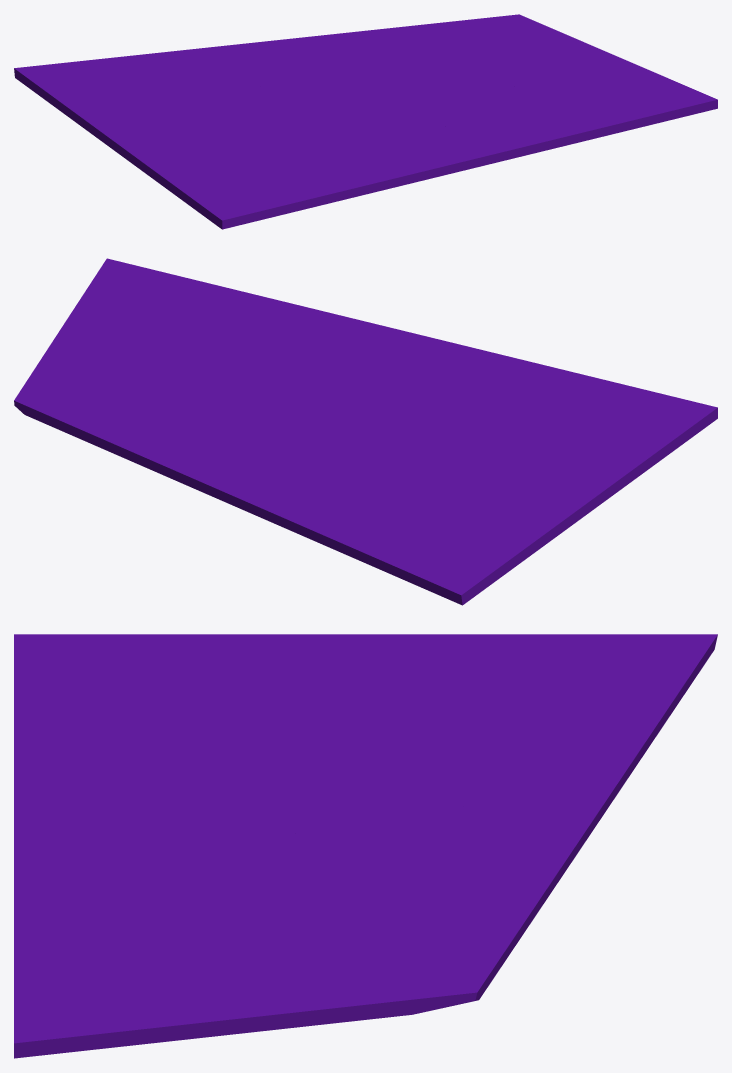
Rendered from Exhibition_18.002_0_chunks.fbx.
3 views of the same model, one above another, from view 1: azimuth 30°, elevation 25°; view 2: azimuth 150°, elevation 25°; view 3: azimuth 270°, elevation 25° (orthographic). The views are drawn at different scales.
Visible parts, largest first — view 1: Exhibition_18.002_0_1, Exhibition_18.002_0_8, Exhibition_18.002_0_5, Exhibition_18.002_0_3, Exhibition_18.002_0_9, Exhibition_18.002_0_4, Exhibition_18.002_0_7, Exhibition_18.002_0_2, Exhibition_18.002_0_10, Exhibition_18.002_0_6, Exhibition_18.002_0_11; view 2: Exhibition_18.002_0_1, Exhibition_18.002_0_8, Exhibition_18.002_0_5, Exhibition_18.002_0_4, Exhibition_18.002_0_7, Exhibition_18.002_0_3, Exhibition_18.002_0_9, Exhibition_18.002_0_6, Exhibition_18.002_0_10, Exhibition_18.002_0_2, Exhibition_18.002_0_11; view 3: Exhibition_18.002_0_1, Exhibition_18.002_0_8, Exhibition_18.002_0_5, Exhibition_18.002_0_4, Exhibition_18.002_0_7, Exhibition_18.002_0_3, Exhibition_18.002_0_9, Exhibition_18.002_0_6, Exhibition_18.002_0_10, Exhibition_18.002_0_2, Exhibition_18.002_0_11, Exhibition_18.002_0_12.
Boxes of the visible parts, left/top/right/bottom form: Exhibition_18.002_0_1: left=329, top=14, right=693, bottom=89; Exhibition_18.002_0_8: left=14, top=47, right=264, bottom=153; Exhibition_18.002_0_5: left=119, top=96, right=347, bottom=220; Exhibition_18.002_0_3: left=484, top=88, right=717, bottom=141; Exhibition_18.002_0_9: left=211, top=136, right=358, bottom=229; Exhibition_18.002_0_4: left=374, top=85, right=596, bottom=129; Exhibition_18.002_0_7: left=264, top=48, right=402, bottom=121; Exhibition_18.002_0_2: left=435, top=125, right=607, bottom=175; Exhibition_18.002_0_10: left=327, top=104, right=456, bottom=151; Exhibition_18.002_0_6: left=210, top=34, right=347, bottom=88; Exhibition_18.002_0_11: left=325, top=149, right=445, bottom=204; Exhibition_18.002_0_1: left=14, top=275, right=264, bottom=484; Exhibition_18.002_0_8: left=288, top=465, right=593, bottom=605; Exhibition_18.002_0_5: left=379, top=411, right=706, bottom=511; Exhibition_18.002_0_4: left=152, top=320, right=343, bottom=410; Exhibition_18.002_0_7: left=204, top=409, right=390, bottom=469; Exhibition_18.002_0_3: left=96, top=258, right=316, bottom=347; Exhibition_18.002_0_9: left=441, top=376, right=717, bottom=428; Exhibition_18.002_0_6: left=182, top=457, right=358, bottom=533; Exhibition_18.002_0_10: left=331, top=350, right=455, bottom=411; Exhibition_18.002_0_2: left=242, top=291, right=454, bottom=357; Exhibition_18.002_0_11: left=399, top=343, right=588, bottom=383; Exhibition_18.002_0_1: left=69, top=857, right=567, bottom=1051; Exhibition_18.002_0_8: left=353, top=634, right=717, bottom=780; Exhibition_18.002_0_5: left=45, top=634, right=408, bottom=795; Exhibition_18.002_0_4: left=122, top=826, right=329, bottom=978; Exhibition_18.002_0_7: left=249, top=765, right=504, bottom=860; Exhibition_18.002_0_3: left=14, top=876, right=156, bottom=1058; Exhibition_18.002_0_9: left=14, top=634, right=215, bottom=773; Exhibition_18.002_0_6: left=435, top=772, right=626, bottom=870; Exhibition_18.002_0_10: left=73, top=770, right=286, bottom=856; Exhibition_18.002_0_2: left=14, top=810, right=129, bottom=952; Exhibition_18.002_0_11: left=14, top=720, right=110, bottom=833; Exhibition_18.002_0_12: left=96, top=771, right=160, bottom=805.
Size of the model in its own units: 926 by 16.07 by 673.
